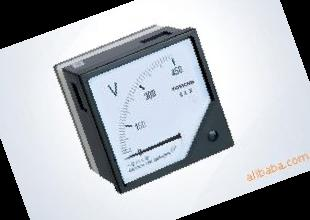pointer: (87, 36, 214, 183)
